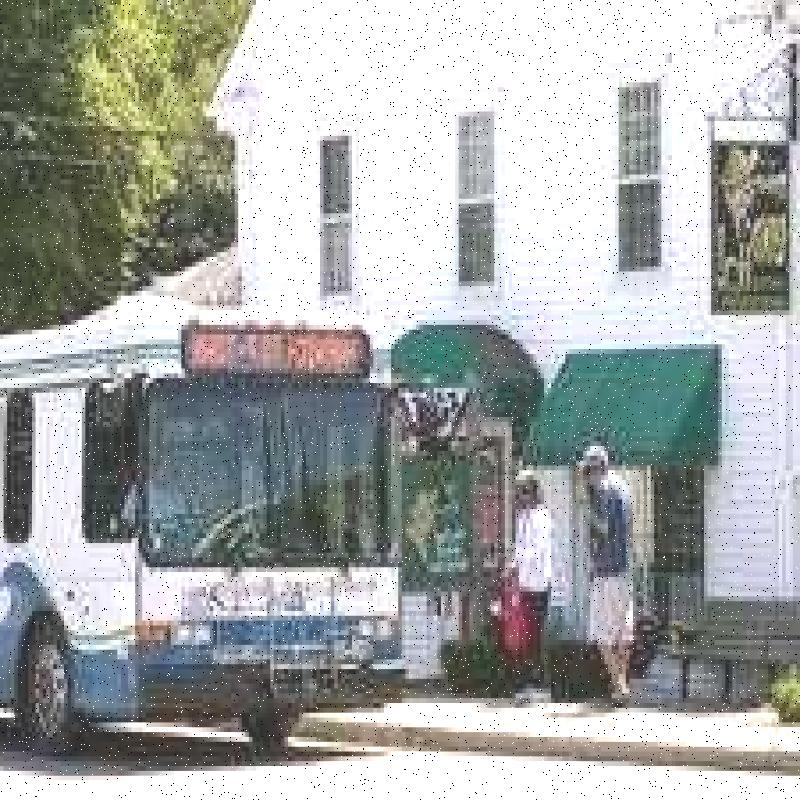bus: (0, 295, 399, 737)
